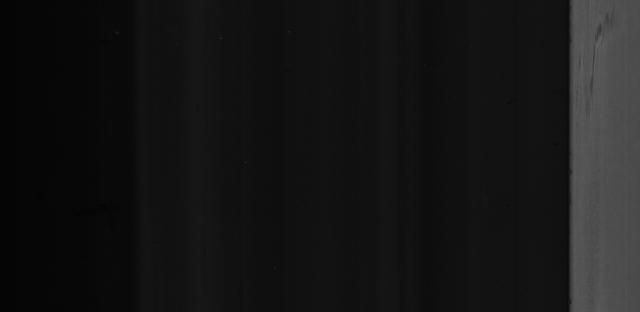silk_spot: (576, 0, 630, 116)
